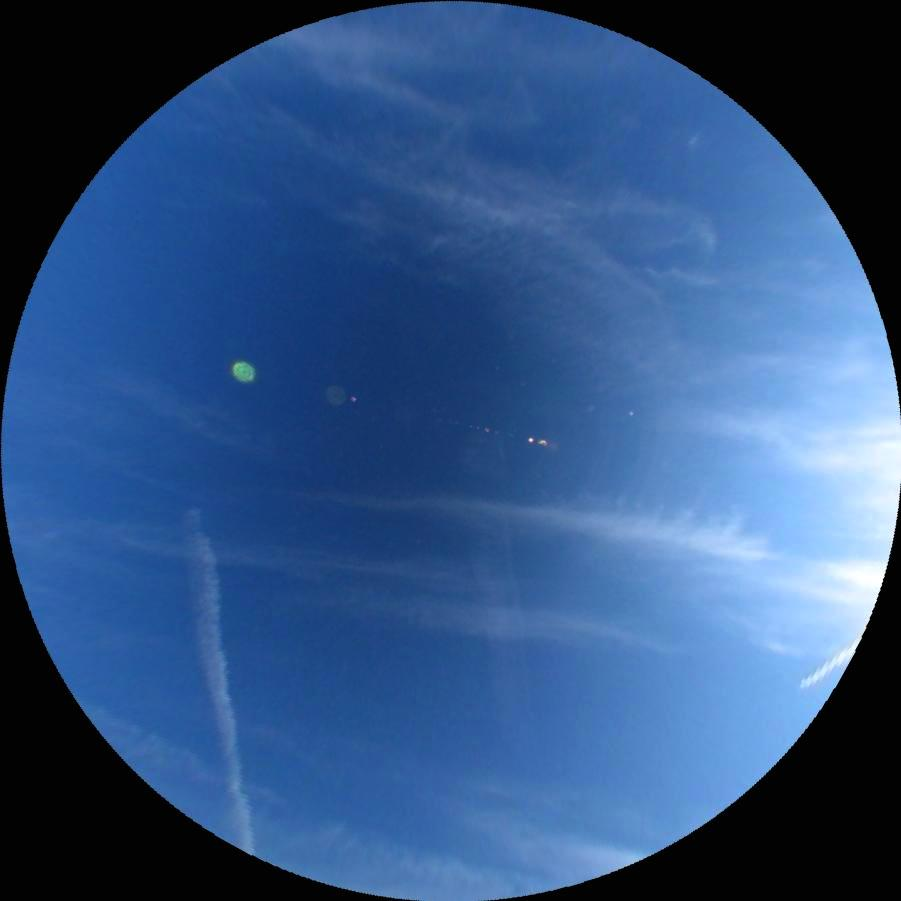contrail old: (797, 638, 863, 692)
contrail veryold: (177, 506, 256, 858), (459, 423, 539, 759)
